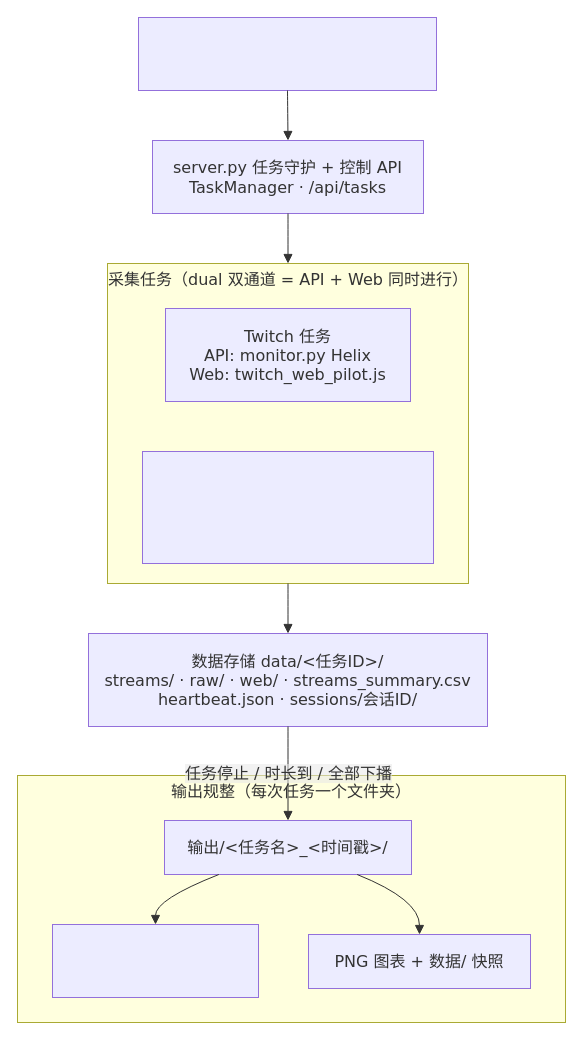
Some shapes in this 583 by 1040 pixel diagram are drawn without their labels. Here are the shapes that lost their labels. From the top down, the centre of each, then its label:
(287,53): 看板网页 http://127.0.0.1:8088/ 添加任务 · 暂停 / 继续 / 停止
(288,507): YouTube 任务 API: YoutubeMonitor Data API v3 Web: yt_web_pilot.js 无 API key 时仅 Web
(155,961): API xlsx + Web xlsx （数据 + 内嵌图表）
